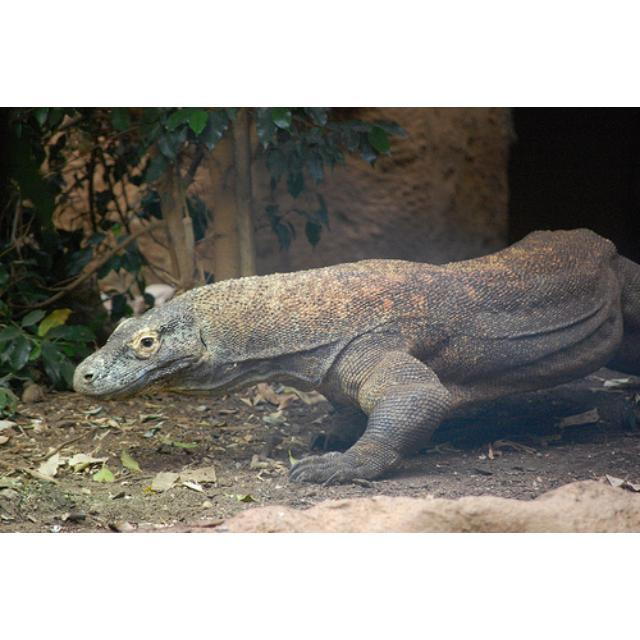KomodoDragon: (71, 229, 638, 486)
